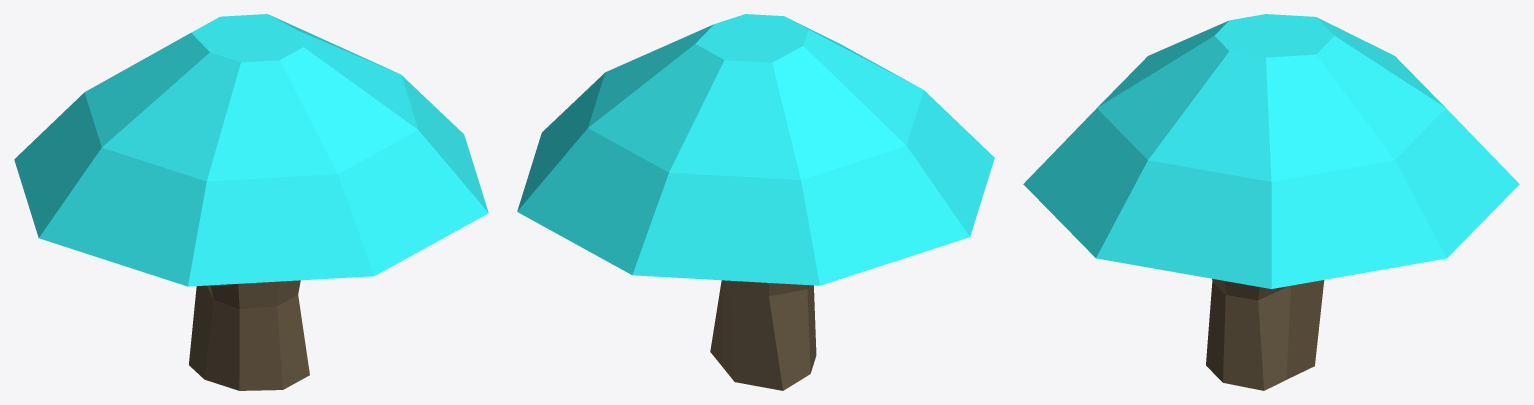
Rendered from BlueMushroom.fbx.
3 renders of one model, left to right at view 1: azimuth 30°, elevation 25°; view 2: azimuth 150°, elevation 25°; view 3: azimuth 270°, elevation 25°, orthographic.
Visible parts, largest first — view 1: Circle; view 2: Circle; view 3: Circle.
Boxes of the visible parts, x1,y1,x2,y2 form: Circle: (14,14,488,390); Circle: (517,14,994,390); Circle: (1023,14,1519,390).
Bounding box in the file's own units: 98.96 × 72.82 × 98.96.
